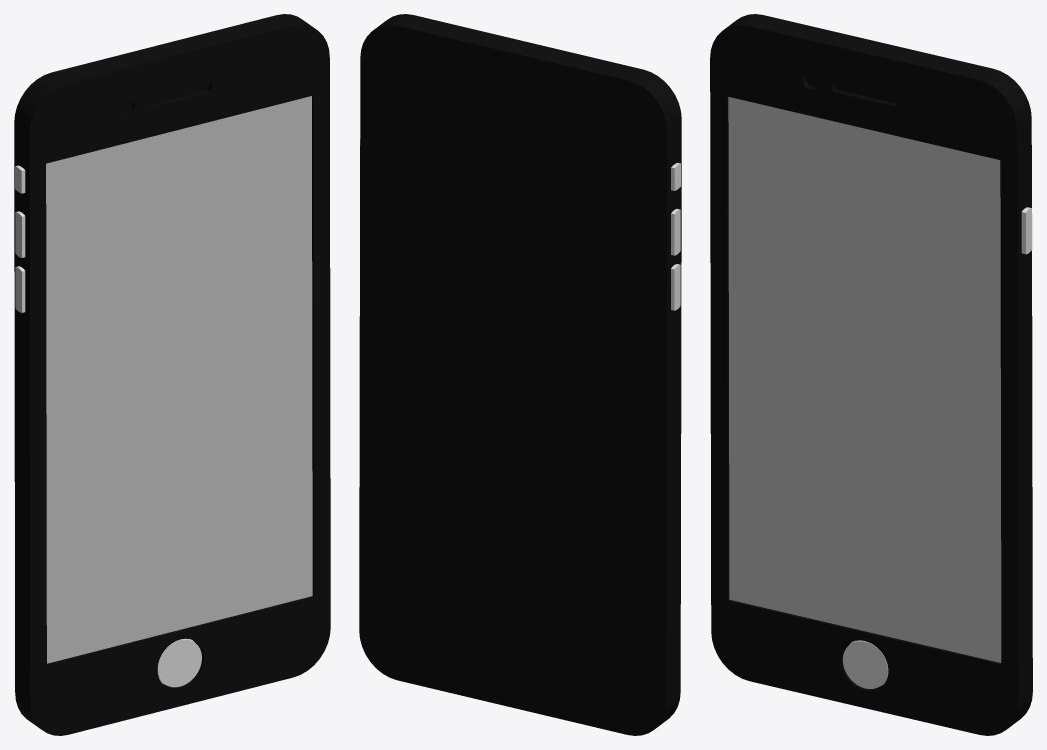
Rendered from celular.fbx.
The picture shows the model from 3 angles, left to right: view 1: azimuth 30°, elevation 25°; view 2: azimuth 150°, elevation 25°; view 3: azimuth 330°, elevation 25°; orthographic projection.
Visible parts, largest first — view 1: Plane.002; view 2: Plane.002; view 3: Plane.002.
Boxes of the visible parts, x1,y1,x2,y2 form: Plane.002: (14, 14, 330, 735); Plane.002: (359, 14, 681, 735); Plane.002: (710, 14, 1032, 735).
Size of the model in its own units: 0.0499 by 0.1001 by 0.00495.
